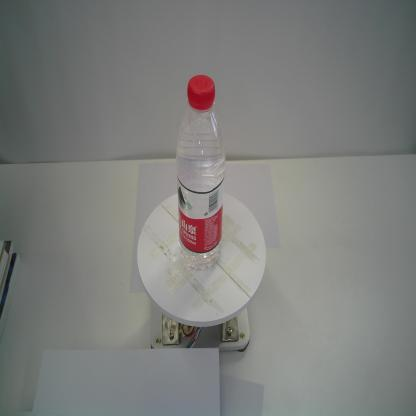Drink: (175, 71, 226, 271)
